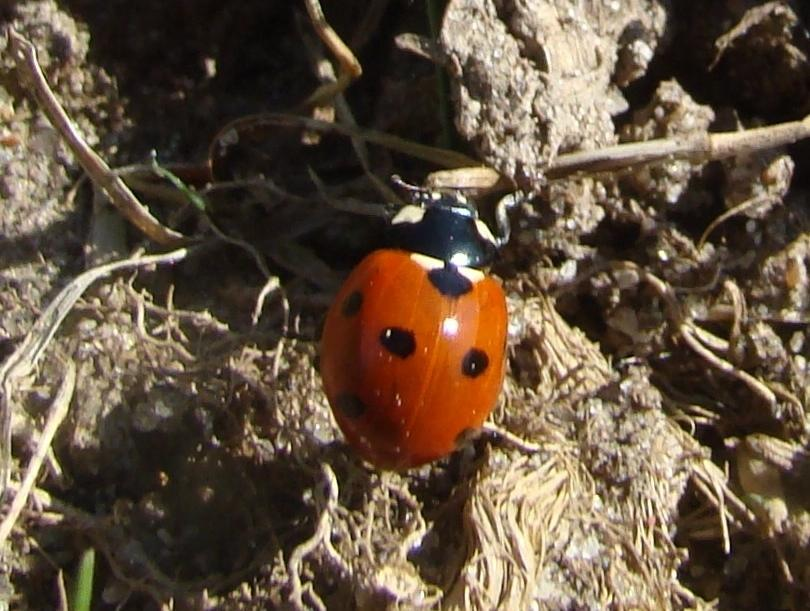ladybug: (318, 176, 546, 474)
